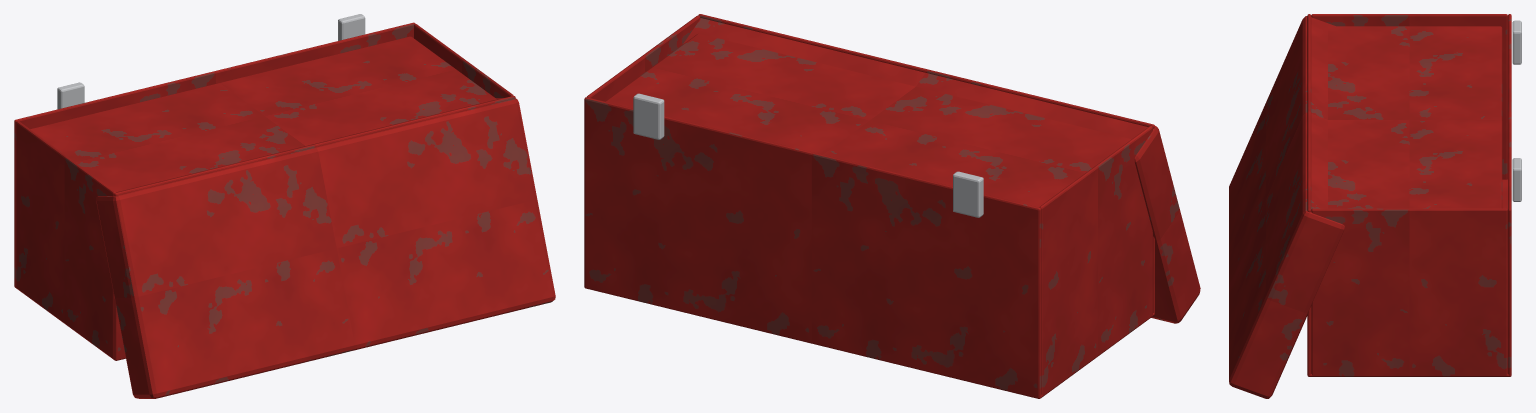
The model's file is lootbox_toolbox_open.glb.
The picture shows the model from 3 angles, left to right: view 1: azimuth 30°, elevation 25°; view 2: azimuth 150°, elevation 25°; view 3: azimuth 270°, elevation 25°; orthographic projection. The views are drawn at different scales.
Visible parts, largest first — view 1: lid, tray, tb_left, tb_front, tb_back, tb_right, latch-1, latch1; view 2: tb_front, tray, tb_left, lid, tb_back, tb_right, latch1, latch-1, tb_floor; view 3: tray, tb_right, lid, tb_left, tb_front, tb_back, tb_floor, latch-1, latch1.
Boxes of the visible parts, bbox=[...] form: lid: bbox=[96, 98, 555, 398]; tray: bbox=[30, 36, 496, 192]; tb_left: bbox=[16, 121, 115, 357]; tb_front: bbox=[14, 22, 415, 285]; tb_back: bbox=[114, 96, 515, 360]; tb_right: bbox=[414, 24, 513, 97]; latch-1: bbox=[57, 82, 84, 109]; latch1: bbox=[338, 14, 365, 40]; tb_front: bbox=[584, 97, 1041, 398]; tray: bbox=[605, 33, 1131, 207]; tb_left: bbox=[1039, 126, 1152, 396]; lid: bbox=[683, 18, 1200, 323]; tb_back: bbox=[698, 14, 1154, 313]; tb_right: bbox=[587, 15, 700, 101]; latch1: bbox=[633, 93, 664, 139]; latch-1: bbox=[953, 171, 983, 217]; tb_floor: bbox=[585, 287, 1154, 398]; tray: bbox=[1328, 26, 1502, 208]; tb_right: bbox=[1311, 208, 1507, 376]; lid: bbox=[1229, 16, 1344, 398]; tb_left: bbox=[1311, 14, 1507, 179]; tb_front: bbox=[1508, 14, 1511, 376]; tb_back: bbox=[1307, 14, 1311, 376]; tb_floor: bbox=[1309, 179, 1510, 376]; latch-1: bbox=[1512, 20, 1521, 64]; latch1: bbox=[1512, 158, 1521, 201].
Bounding box in the file's own units: 0.506 × 0.2462 × 0.3154.
3 materials, 2 textured.
